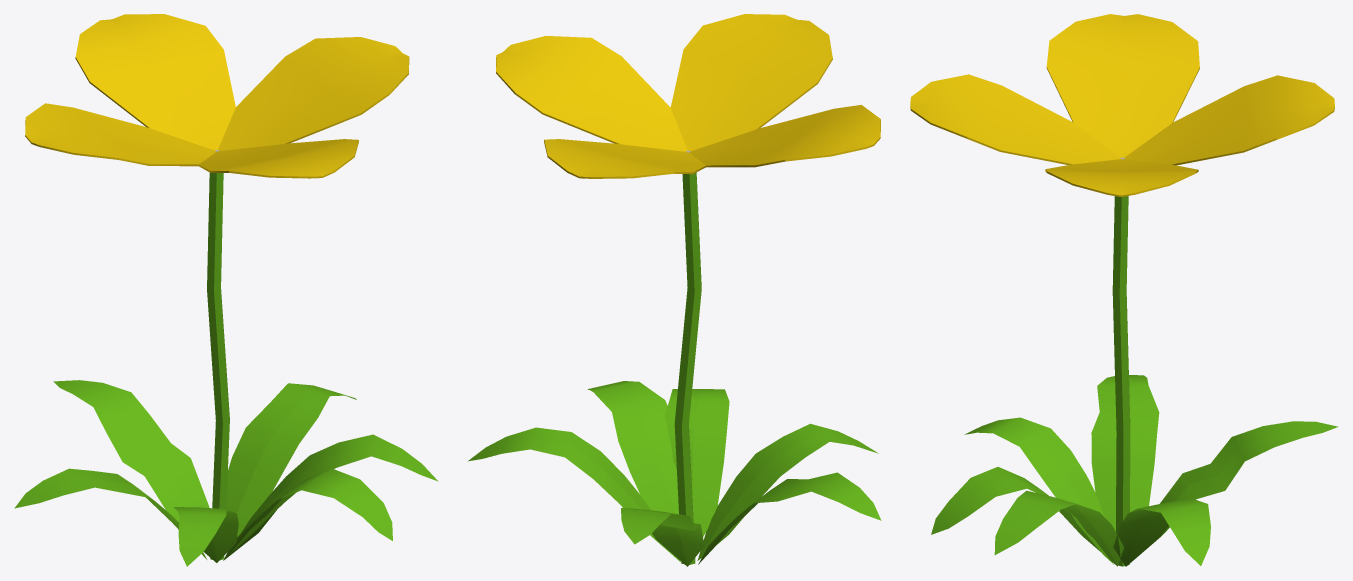
The model's file is Flower 1.fbx.
The picture shows the model from 3 angles, left to right: view 1: azimuth 30°, elevation 25°; view 2: azimuth 150°, elevation 25°; view 3: azimuth 270°, elevation 25°; orthographic projection.
Parts seen in each view (by area): view 1: Flower_1; view 2: Flower_1; view 3: Flower_1.
Boxes of the visible parts, x1=… form: Flower_1: x1=14, y1=14, x2=438, y2=566; Flower_1: x1=468, y1=14, x2=881, y2=566; Flower_1: x1=910, y1=14, x2=1338, y2=566.
Size of the model in its own units: 46.49 by 53.95 by 45.38.
Materials: 1 (1 with a texture image).
